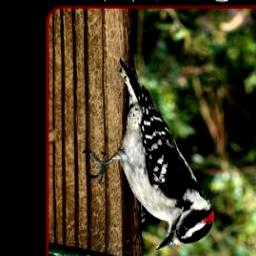Woodpecker: (80, 62, 216, 251)
